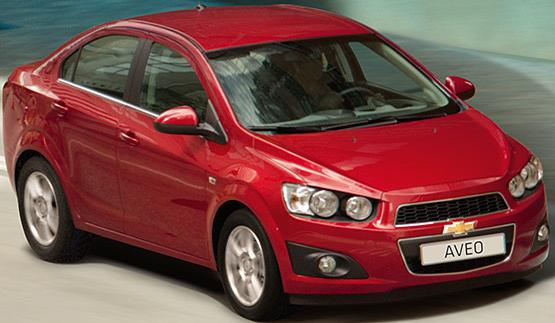front_view: (279, 151, 551, 298)
headlight: (280, 176, 385, 233)
side_glass: (53, 29, 206, 142)
